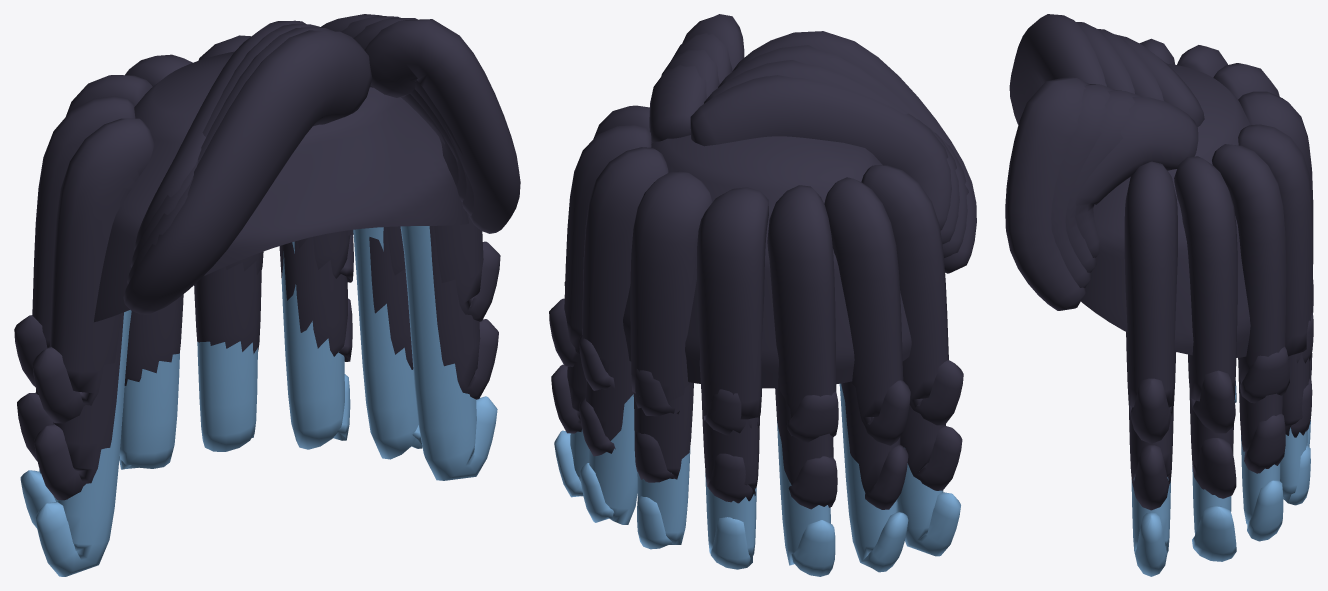
The model's file is studio_layered_long.glb.
3 views of the same model, side by side, from view 1: azimuth 30°, elevation 25°; view 2: azimuth 150°, elevation 25°; view 3: azimuth 270°, elevation 25° (orthographic). The views are drawn at different scales.
Visible parts, largest first — view 1: layered; view 2: layered; view 3: layered.
Boxes of the visible parts, <box> form: layered: <box>14,14,520,576</box>; layered: <box>549,14,976,576</box>; layered: <box>1005,14,1313,576</box>.
Size of the model in its own units: 0.5986 by 0.6515 by 0.3939.
